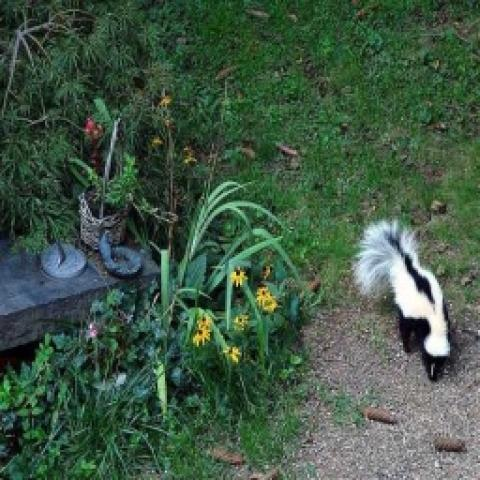small_animal: (356, 219, 456, 381)
